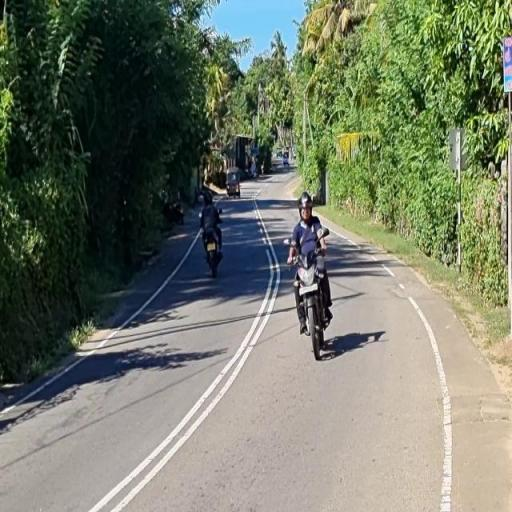double_white_line: (86, 195, 280, 512)
